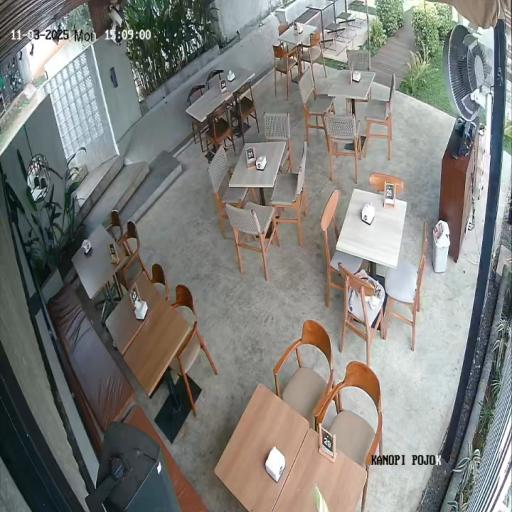Kursi: (316, 362, 382, 511), (274, 320, 334, 427), (170, 285, 218, 415), (384, 223, 427, 350), (321, 191, 362, 307), (339, 264, 386, 365), (226, 202, 280, 281), (271, 142, 307, 245), (208, 147, 248, 237), (299, 68, 333, 144), (365, 74, 395, 159), (326, 113, 361, 182), (116, 221, 150, 289), (230, 82, 259, 143), (264, 113, 292, 170), (205, 104, 236, 153), (274, 45, 297, 99), (301, 32, 327, 77), (370, 173, 403, 193), (151, 263, 169, 299), (106, 210, 124, 242), (192, 118, 206, 151), (348, 50, 370, 70), (207, 70, 223, 89)
